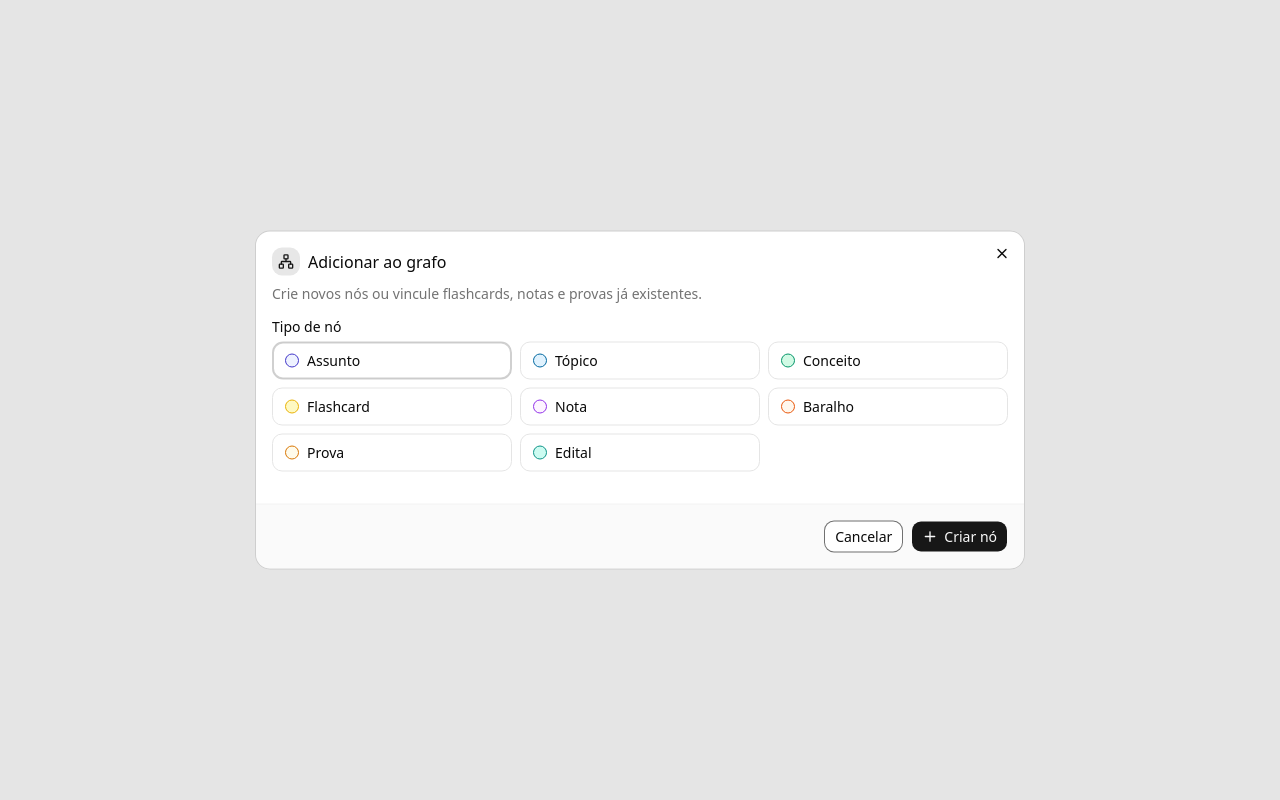
Scenario: CreateNodeModal validation › reports both sides of a FLASHCARD at once
This screenshot has width=1280, height=800.
Click the button "Flashcard" at x=392, y=406, box [272,388,512,426]
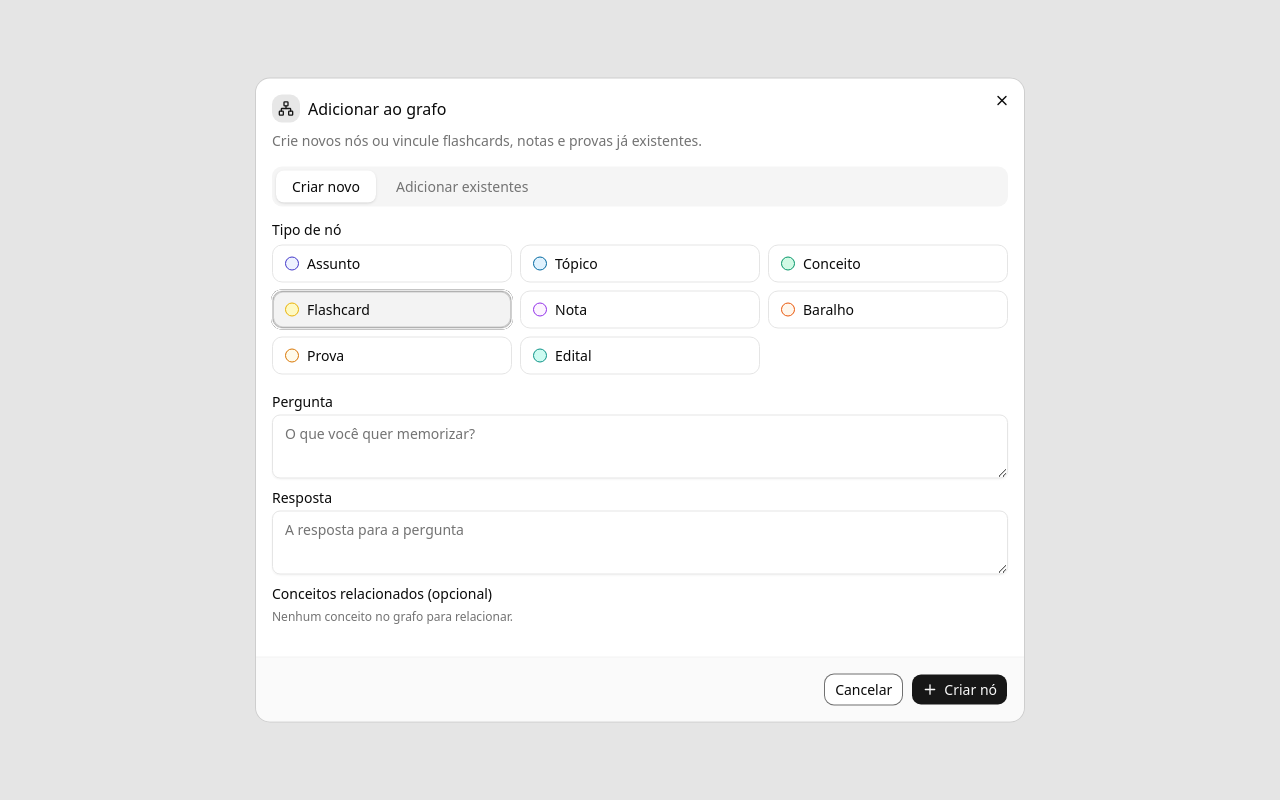
Click the button "Criar nó" at x=960, y=690, box [911,674,1008,706]
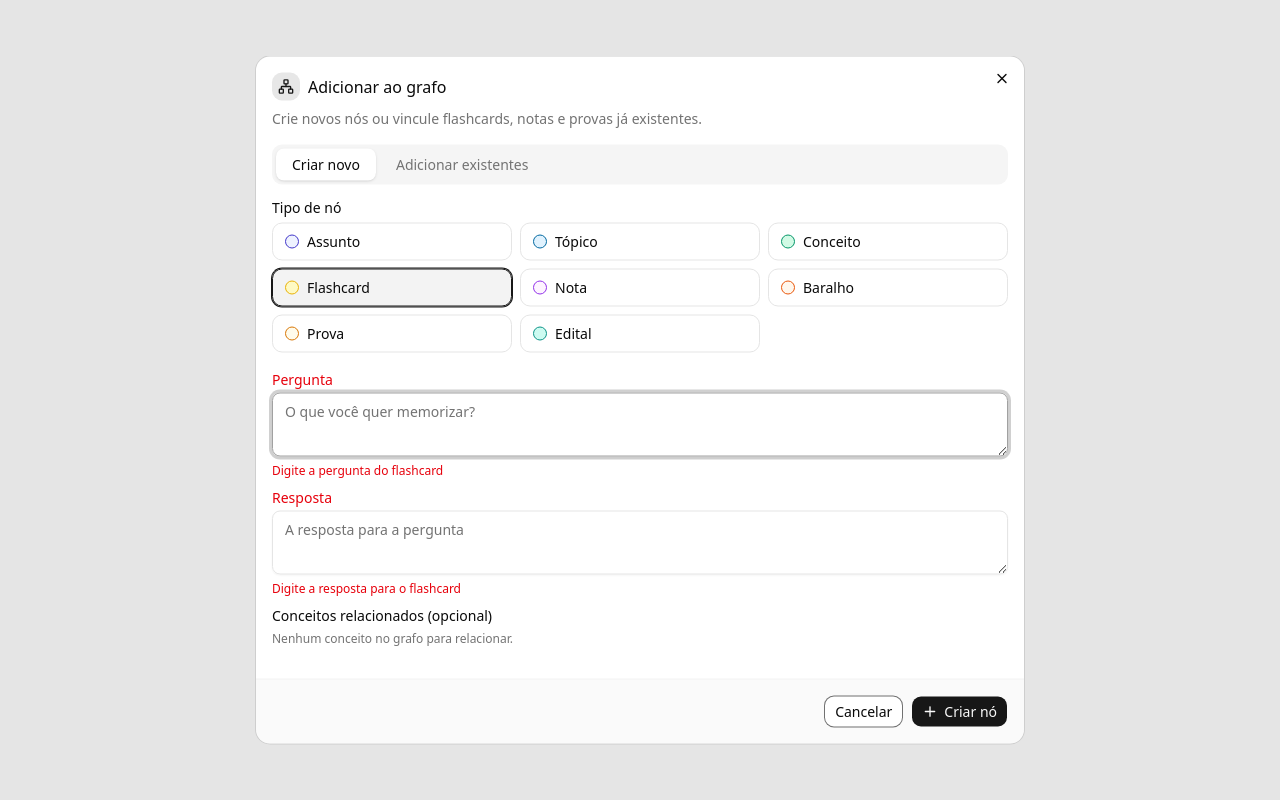
Check: the text "Digite a pergunta do flashcard" is shown, box [272,462,443,478]
Check: the text "Digite a resposta para o flashcard" is shown, box [272,580,461,596]
